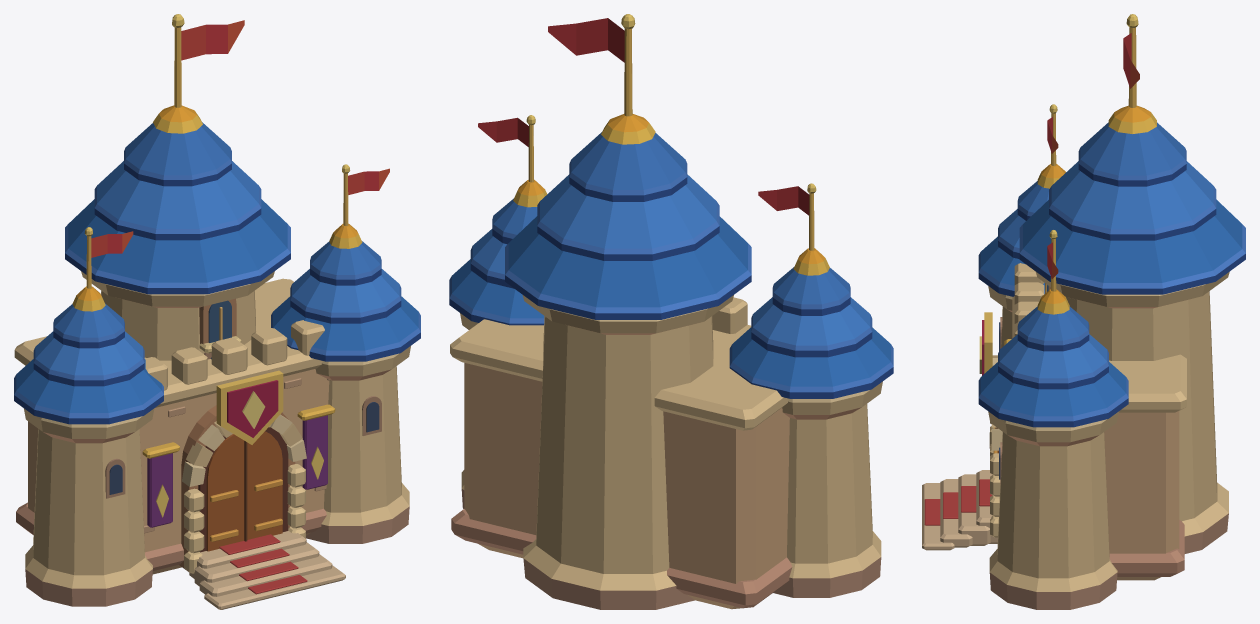
The model's file is castle.glb.
The picture shows the model from 3 angles, left to right: view 1: azimuth 30°, elevation 25°; view 2: azimuth 150°, elevation 25°; view 3: azimuth 270°, elevation 25°; orthographic projection. The views are drawn at different scales.
Visible parts, largest first — view 1: Castel, Steag1, Steag2, Steag3; view 2: Castel, Steag1, Steag2, Steag3; view 3: Castel, Steag1.
Boxes of the visible parts, x1,y1,x2,y2 form: Castel: (14,14,420,609); Steag1: (181,20,244,60); Steag2: (91,231,133,257); Steag3: (348,168,389,194); Castel: (449,14,893,609); Steag1: (548,18,624,62); Steag2: (758,186,809,215); Steag3: (478,117,528,146); Castel: (922,14,1245,609); Steag1: (1123,33,1139,88).
Size of the model in its own units: 5.93 by 7.41 by 4.3.
